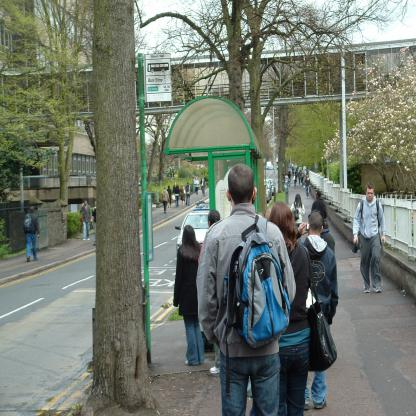Not_Wearing_Mask: (367, 188, 373, 202)
